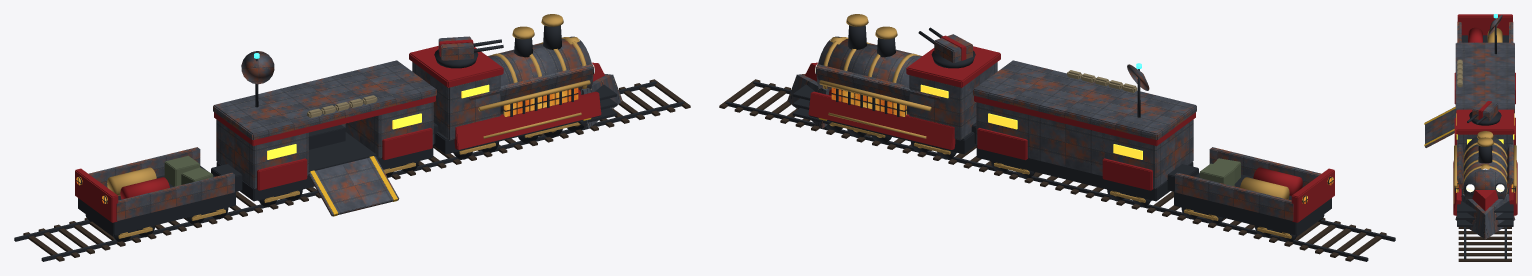
The model's file is kabaneri_armored_train.glb.
The picture shows the model from 3 angles, left to right: view 1: azimuth 30°, elevation 25°; view 2: azimuth 150°, elevation 25°; view 3: azimuth 270°, elevation 25°; orthographic projection. The views are drawn at different scales.
Visible parts, largest first — view 1: BaseCar_Roof, Loco_SideSkirt_-1, BoardingRamp, Loco_CabBody, BaseCar_LeftSection, TailWall_-1, Loco_BoilerDrum, TailCar_Chassis, BaseCar_RightSection, Rail_-1, Loco_CabRoof, Loco_UpperArmor_-1 (+19 smaller); view 2: BaseCar_Roof, BaseCar_BackWall, Loco_SideSkirt_1, Loco_CabBody, BaseCar_LeftSection, TailWall_1, Loco_BoilerDrum, TailCar_Chassis, BaseCar_Chassis, Rail_1, Loco_CabRoof, Loco_UpperArmor_1 (+16 smaller); view 3: BaseCar_Roof, Loco_BoilerDrum, Loco_RamPlow, Loco_CabRoof, TailRearShield, BoardingRamp, Loco_RamPlowCrest, Loco_CabBody, TurretHousing, PlowRib_1.95, Loco_UpperArmor_1, Loco_UpperArmor_-1 (+33 smaller).
Part boxes in pixels (x1=…): BaseCar_Roof: x1=213, y1=60, x2=436, y2=140; Loco_SideSkirt_-1: x1=454, y1=91, x2=601, y2=149; BoardingRamp: x1=308, y1=156, x2=399, y2=216; Loco_CabBody: x1=412, y1=62, x2=500, y2=140; BaseCar_LeftSection: x1=216, y1=119, x2=308, y2=188; TailWall_-1: x1=116, y1=172, x2=234, y2=220; Loco_BoilerDrum: x1=489, y1=36, x2=593, y2=114; TailCar_Chassis: x1=78, y1=166, x2=235, y2=235; BaseCar_RightSection: x1=345, y1=102, x2=433, y2=158; Rail_-1: x1=41, y1=101, x2=684, y2=261; Loco_CabRoof: x1=409, y1=46, x2=503, y2=87; Loco_UpperArmor_-1: x1=469, y1=64, x2=594, y2=101; BaseCar_Roof: x1=973, y1=60, x2=1196, y2=140; BaseCar_BackWall: x1=1028, y1=115, x2=1104, y2=175; Loco_SideSkirt_1: x1=808, y1=91, x2=955, y2=149; Loco_CabBody: x1=909, y1=62, x2=997, y2=140; BaseCar_LeftSection: x1=1102, y1=119, x2=1193, y2=188; TailWall_1: x1=1175, y1=172, x2=1293, y2=220; Loco_BoilerDrum: x1=816, y1=36, x2=920, y2=114; TailCar_Chassis: x1=1174, y1=173, x2=1331, y2=235; BaseCar_Chassis: x1=976, y1=145, x2=1193, y2=201; Rail_1: x1=725, y1=101, x2=1368, y2=261; Loco_CabRoof: x1=906, y1=46, x2=1000, y2=87; Loco_UpperArmor_1: x1=815, y1=64, x2=940, y2=101; BaseCar_Roof: x1=1455, y1=42, x2=1514, y2=113; Loco_BoilerDrum: x1=1463, y1=136, x2=1507, y2=199; Loco_RamPlow: x1=1455, y1=194, x2=1515, y2=239; Loco_CabRoof: x1=1456, y1=109, x2=1514, y2=134; TailRearShield: x1=1457, y1=14, x2=1512, y2=35; BoardingRamp: x1=1425, y1=107, x2=1455, y2=147; Loco_RamPlowCrest: x1=1472, y1=190, x2=1498, y2=211; Loco_CabBody: x1=1457, y1=134, x2=1512, y2=151; TurretHousing: x1=1472, y1=100, x2=1498, y2=121; PlowRib_1.95: x1=1457, y1=201, x2=1513, y2=212; Loco_UpperArmor_1: x1=1507, y1=139, x2=1513, y2=188; Loco_UpperArmor_-1: x1=1457, y1=139, x2=1463, y2=188.
Size of the model in its own units: 42.17 by 8.46 by 7.14.
Materials: 12 (2 with a texture image).
